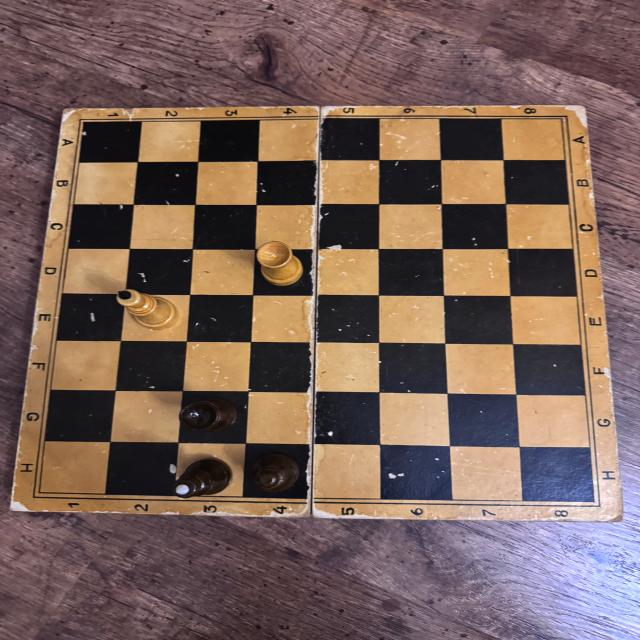black-king: (170, 457, 233, 498)
black-pawn: (250, 453, 300, 494)
black-rook: (174, 398, 241, 434)
white-king: (116, 288, 181, 330)
white-rook: (255, 241, 308, 286)
